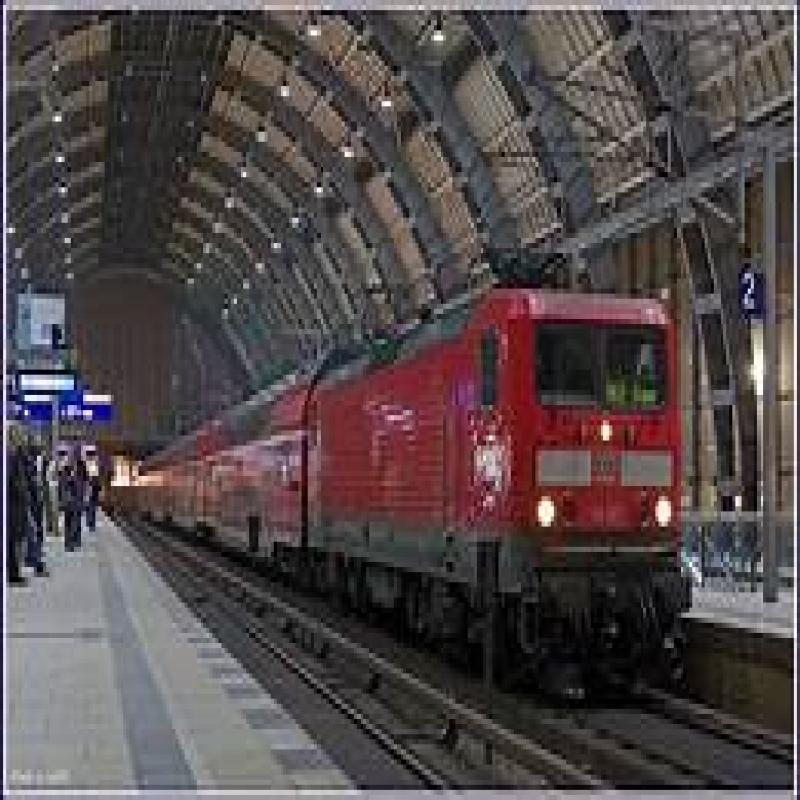train: (130, 345, 721, 715)
